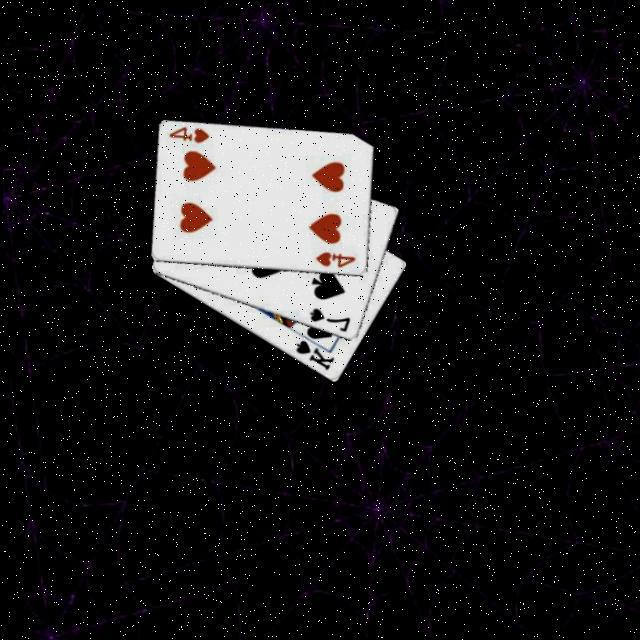4H: (163, 124, 210, 148), (310, 249, 356, 273)
7S: (304, 304, 352, 338)
KS: (288, 336, 334, 376)
